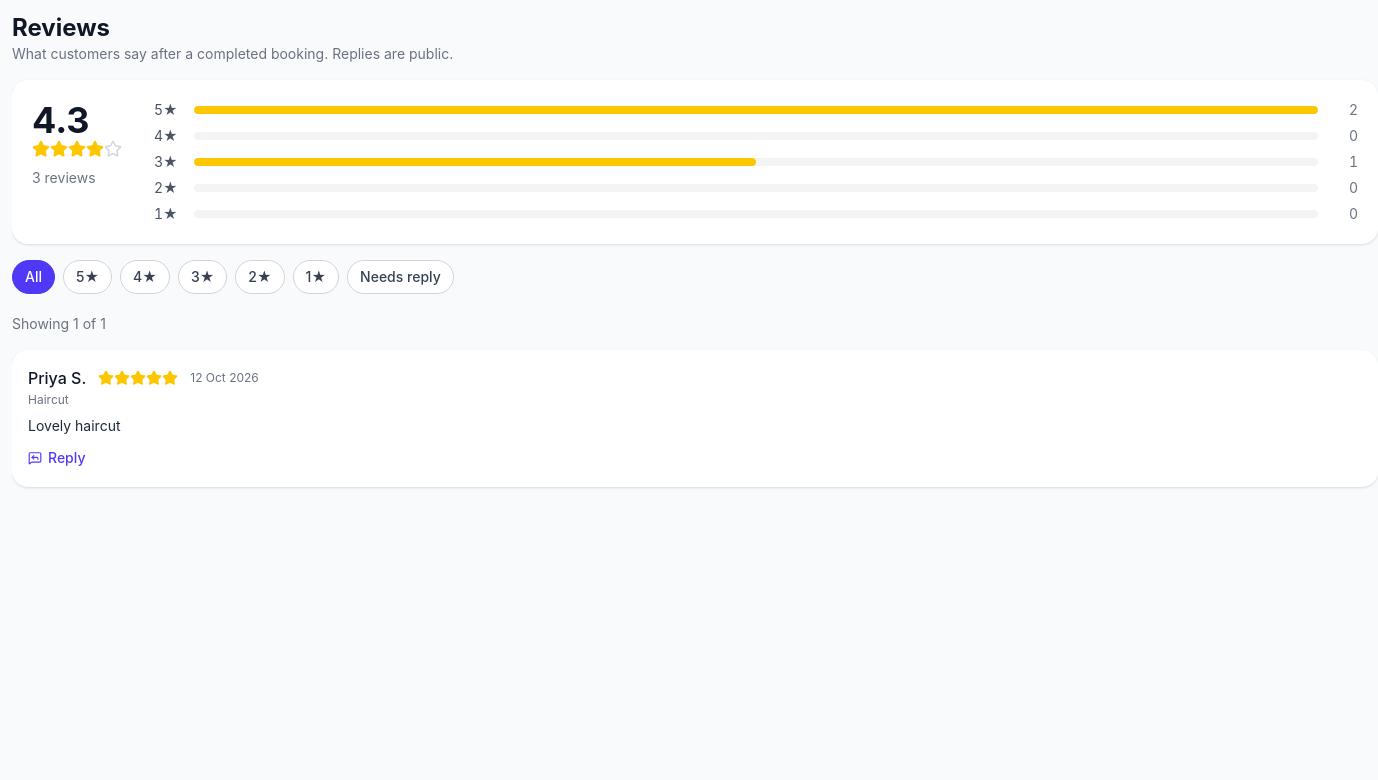
Test: ReviewsPage › keeps the reply open with the reason when saving fails
Click the button with aria-label "Reply to Priya S.": (57, 458) [28,448,85,468]
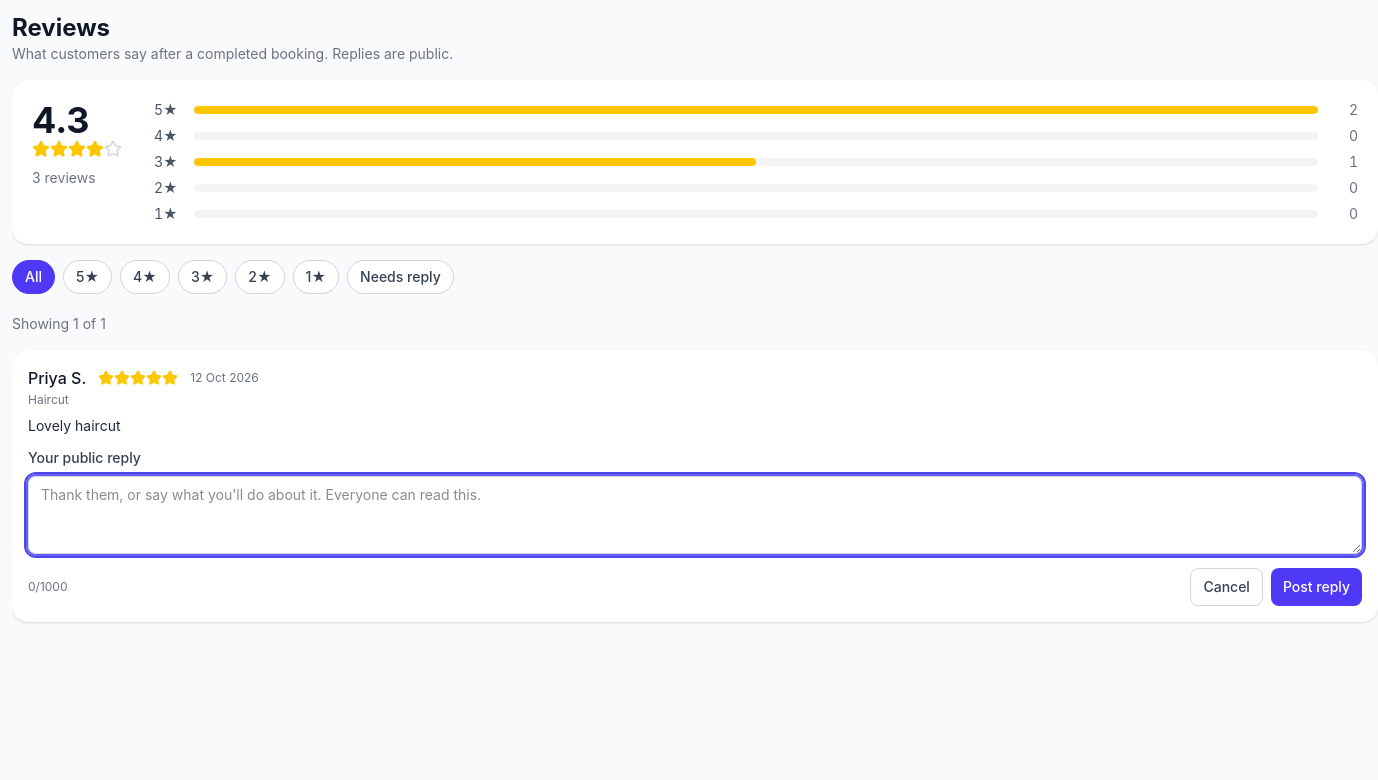
Replace the text in the text box labelled "Your public reply" with "Hi": (695, 515) [28,476,1362,554]
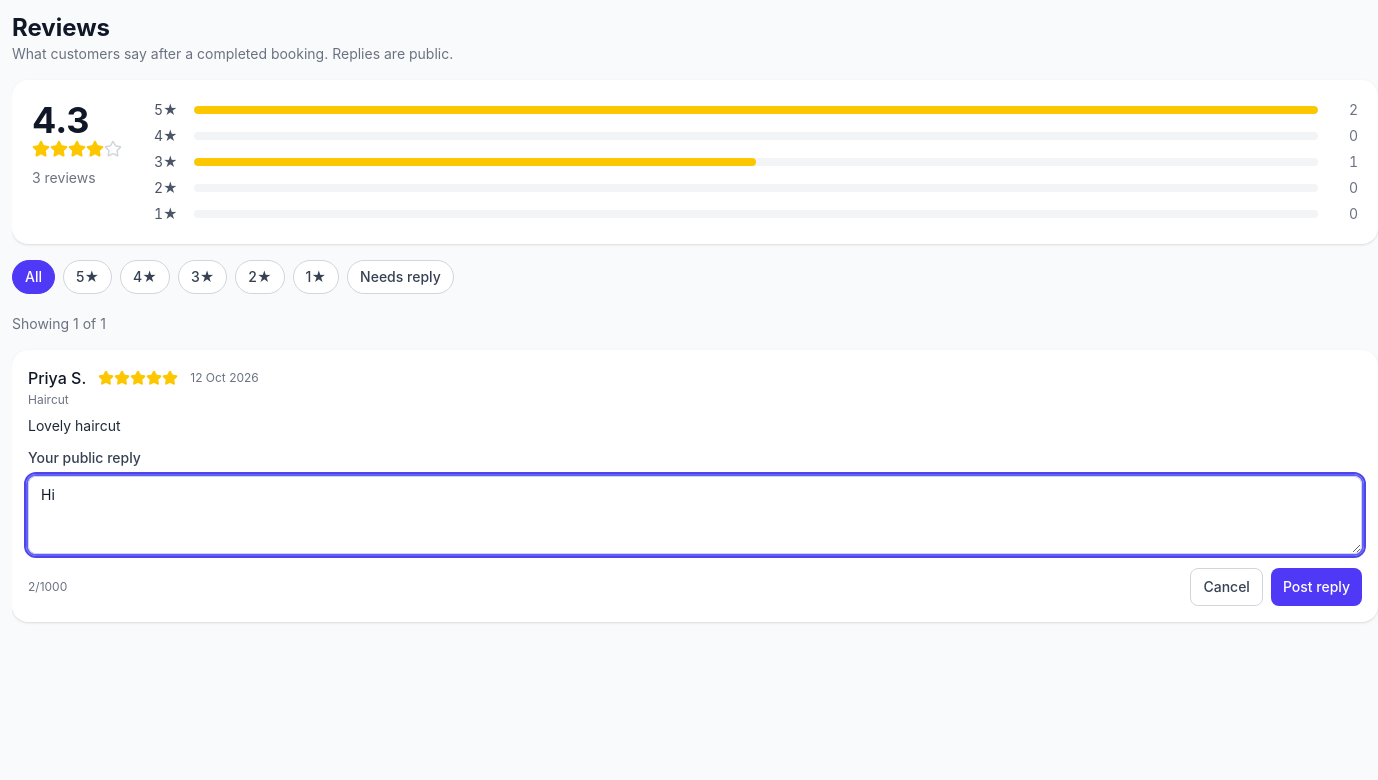
Click the button "Post reply": (1316, 587) [1271,568,1362,606]
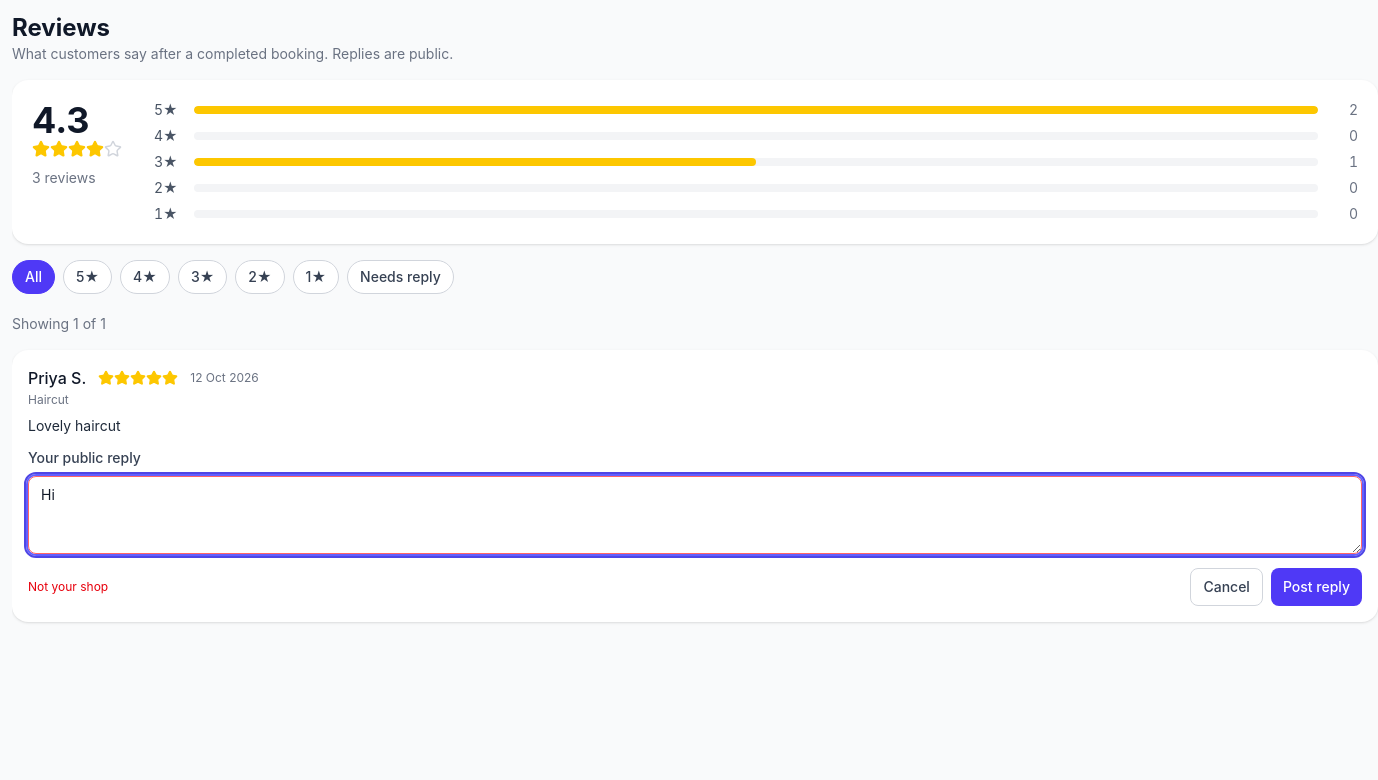
Check: the message reads "Not your shop", box [28,579,108,594]
